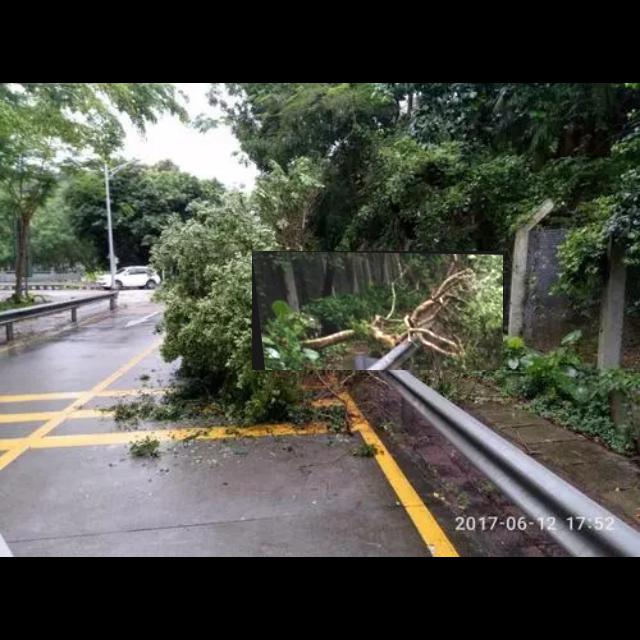Fallen Tree: (252, 251, 504, 371)
